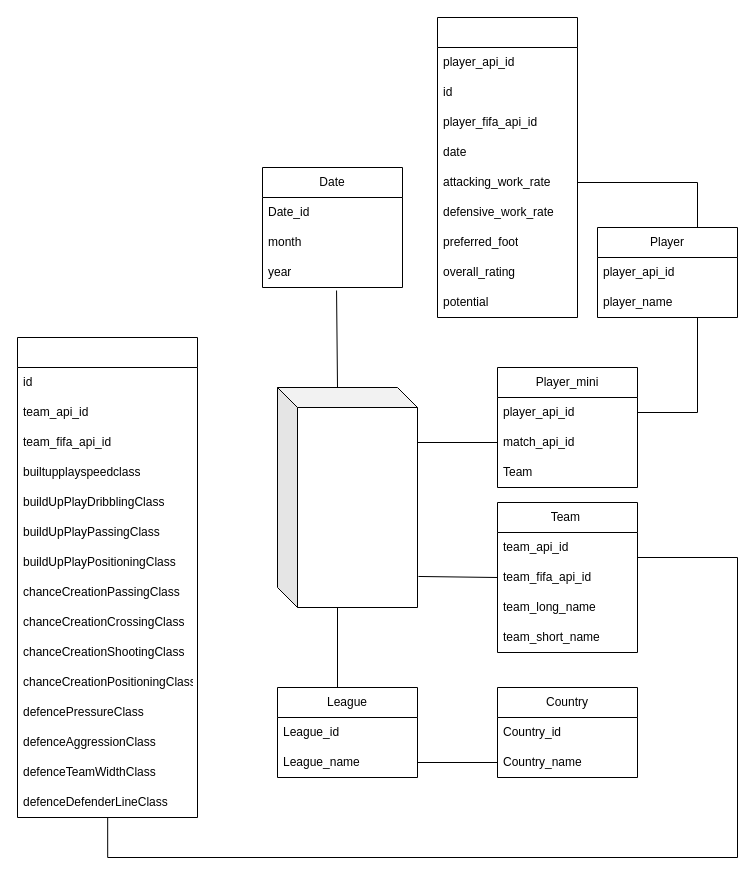
The diagram is 756 pixels wide and 876 high, and some of its shapes have lost their labels. The shapes that lost their labels are listed below. From the top down, each one's box as (x1, y1, x2, y2) in pixels, then its label:
(436, 16, 578, 318): Player_Attributes
(276, 386, 418, 608): Match season stage Measures: home_team_goals away_team_goals goals
(16, 336, 198, 818): Team_attributes
